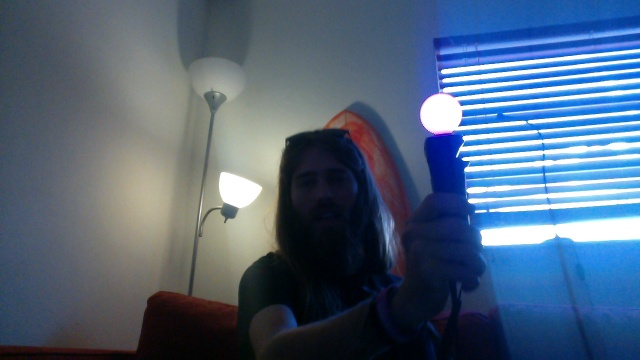wand: (421, 94, 463, 135)
